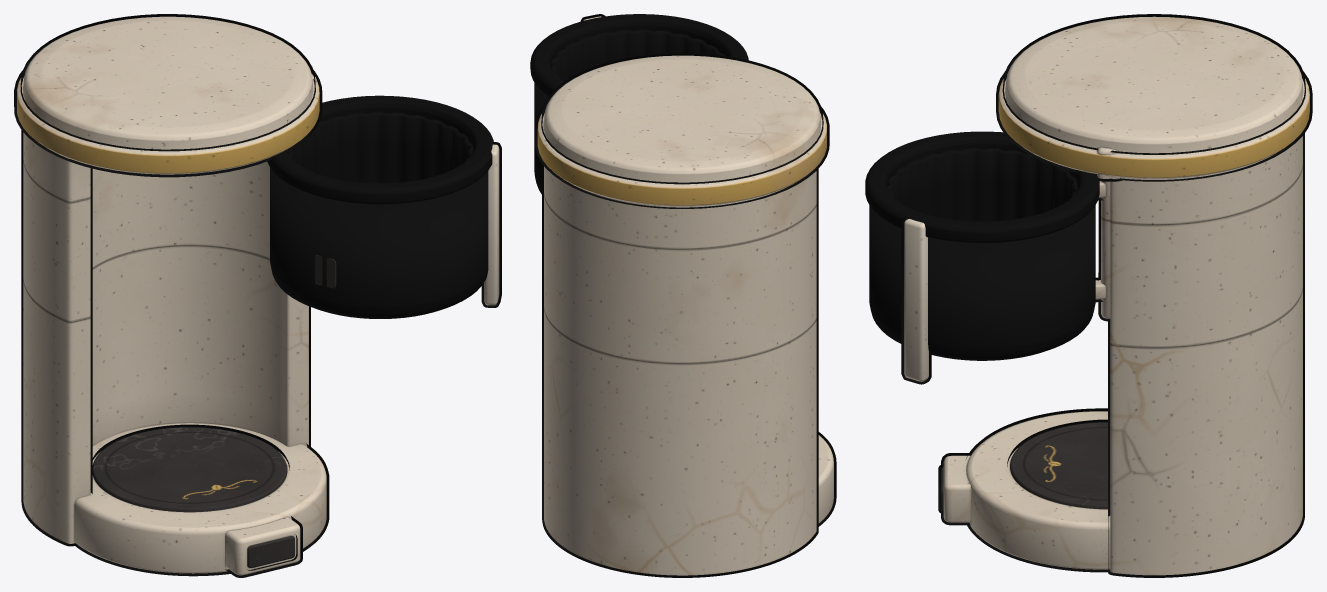
Rendered from CoffeeMachine_Filter.fbx.
3 renders of one model, left to right at view 1: azimuth 30°, elevation 25°; view 2: azimuth 150°, elevation 25°; view 3: azimuth 270°, elevation 25°, orthographic. The views are drawn at different scales.
Parts seen in each view (by area): view 1: CoffeeMachine_Filter; view 2: CoffeeMachine_Filter; view 3: CoffeeMachine_Filter.
Boxes of the visible parts, x1=… form: CoffeeMachine_Filter: x1=14, y1=14, x2=501, y2=577; CoffeeMachine_Filter: x1=530, y1=14, x2=836, y2=577; CoffeeMachine_Filter: x1=865, y1=14, x2=1312, y2=577.
Size of the model in its own units: 0.2904 by 0.3326 by 0.3038.
Materials: 1 (1 with a texture image).
